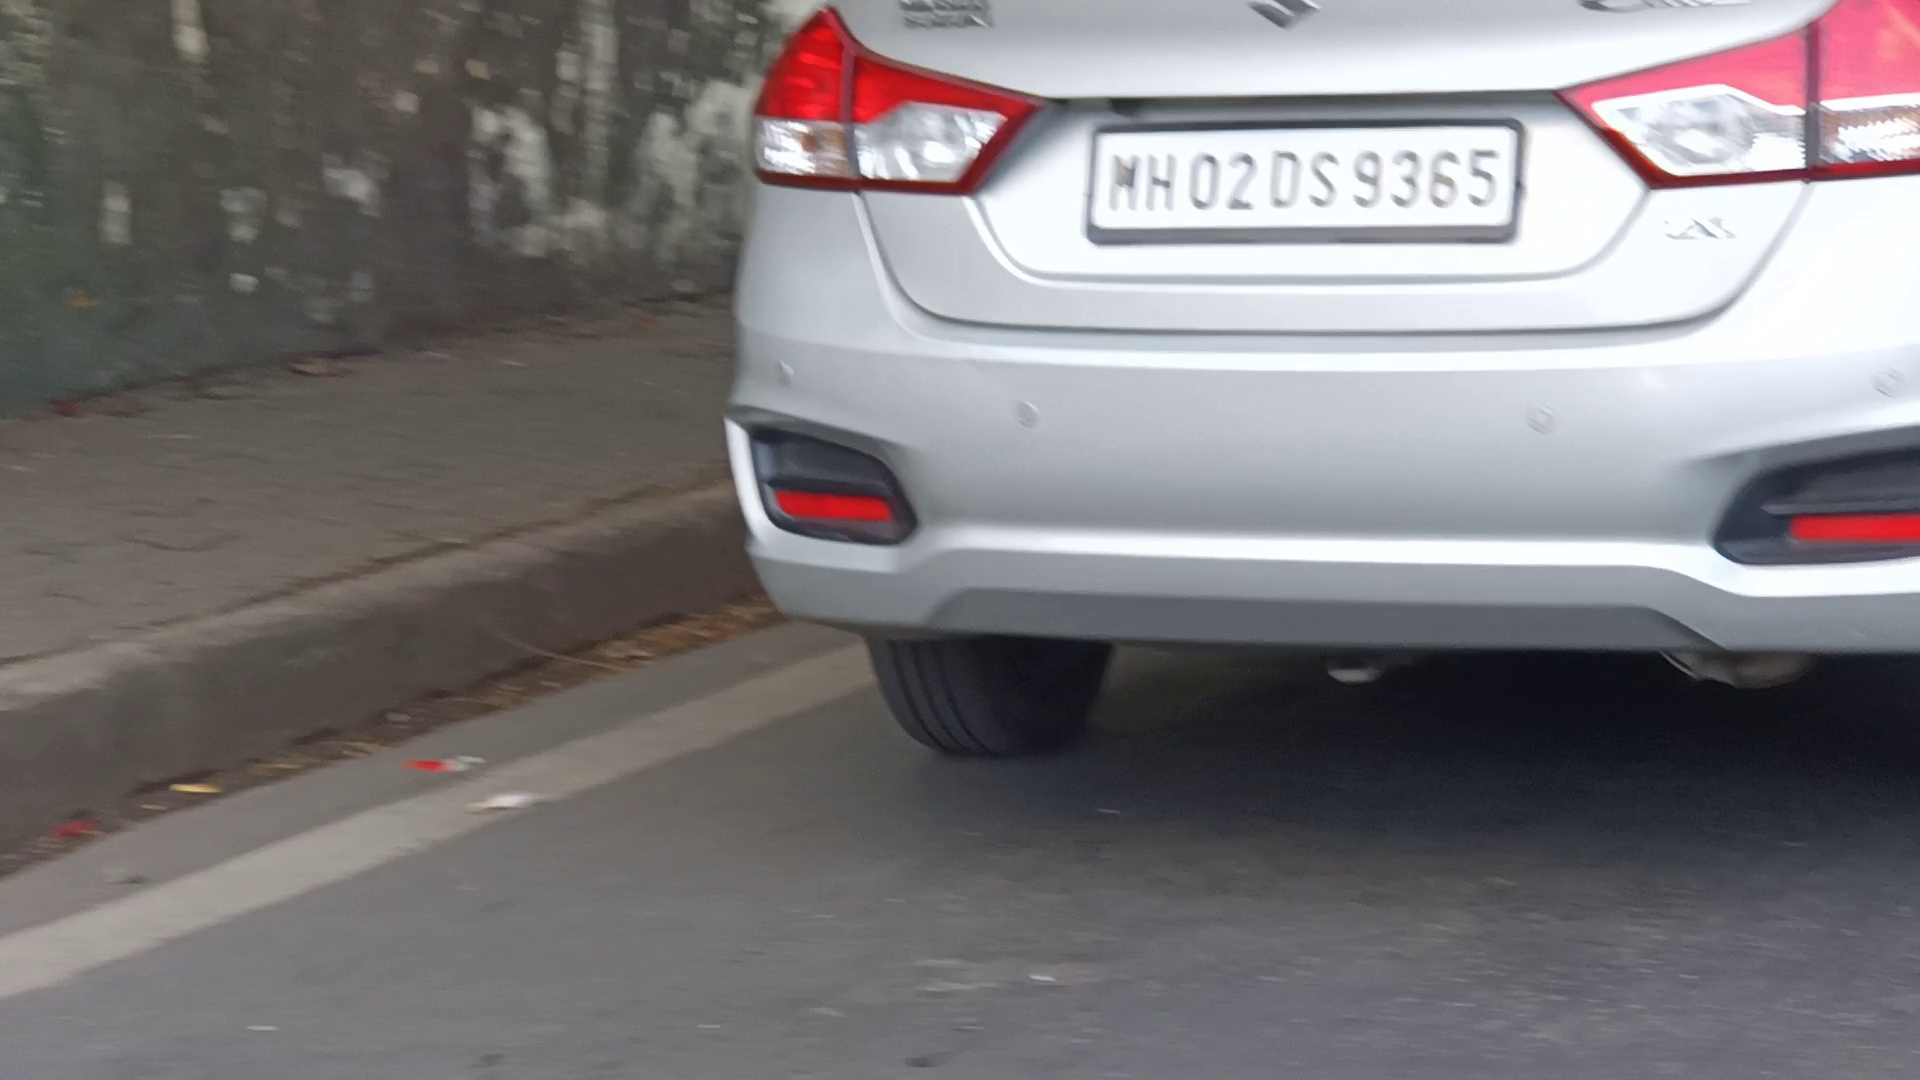MH02DS9365: (1089, 120, 1520, 228)
